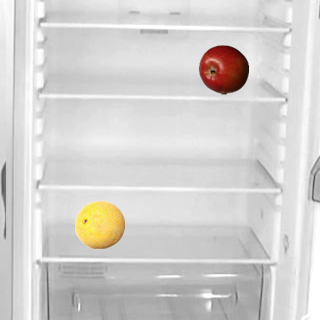Apple Braeburn: (198, 44, 248, 94)
Cantaloupe 1: (74, 199, 124, 249)
